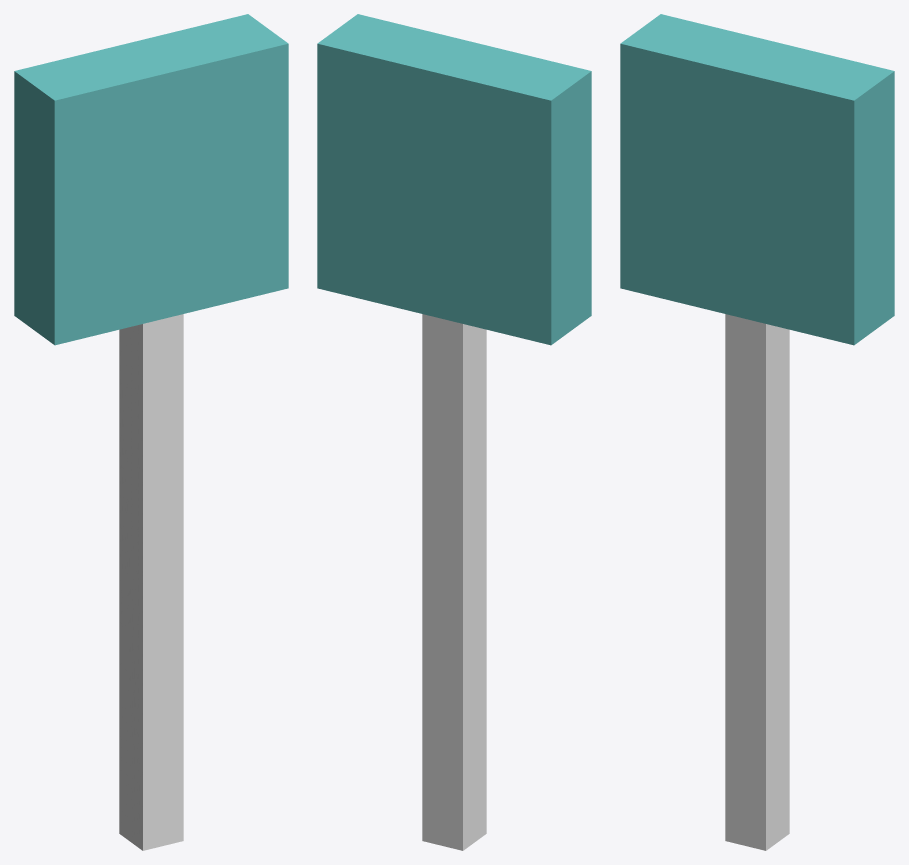
File: CandylandLollypop_05.fbx
The picture shows the model from 3 angles, left to right: view 1: azimuth 30°, elevation 25°; view 2: azimuth 150°, elevation 25°; view 3: azimuth 330°, elevation 25°; orthographic projection.
Parts seen in each view (by area): view 1: CandylandLollypop_05; view 2: CandylandLollypop_05; view 3: CandylandLollypop_05.
Part boxes in pixels (x1=…): CandylandLollypop_05: x1=14, y1=14, x2=288, y2=850; CandylandLollypop_05: x1=317, y1=14, x2=591, y2=850; CandylandLollypop_05: x1=620, y1=14, x2=894, y2=850.
Bounding box in the file's own units: 0.2013 × 0.6416 × 0.0604.
